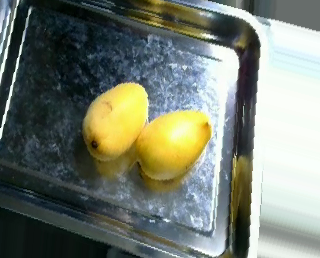Mango: (79, 80, 149, 163), (136, 109, 212, 179)
